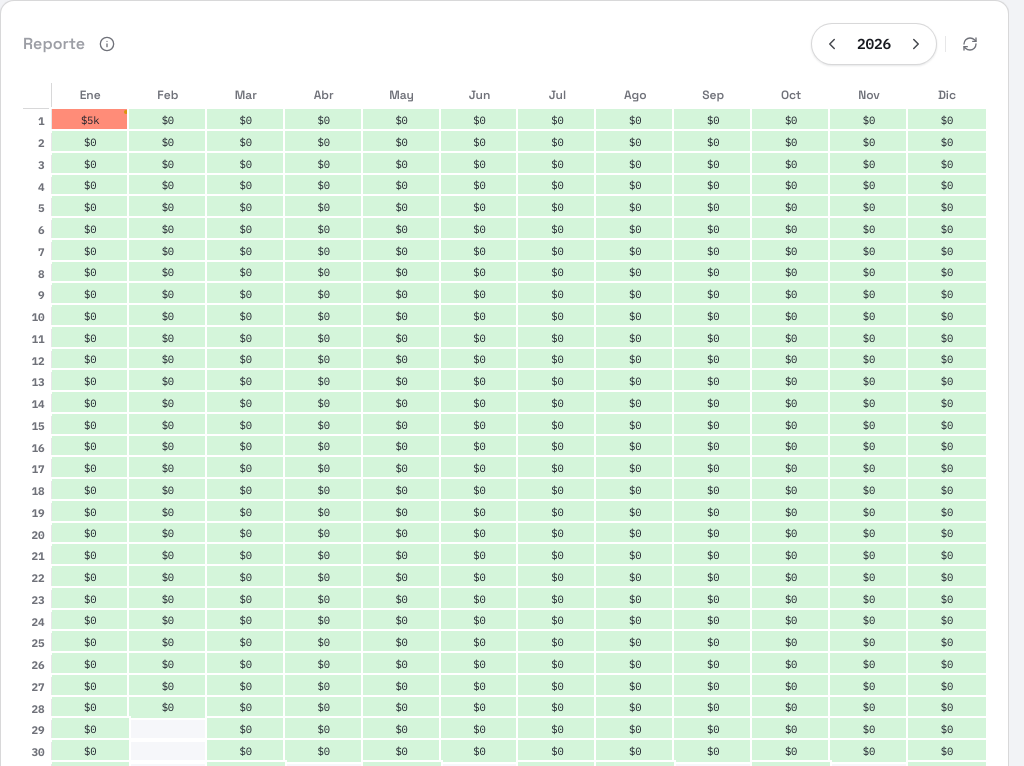
Test case: Marca visual pasiva de límites en unique-grid › hover en la celda de día 1/enero muestra el tooltip con la nota de límite cruzado
The image size is (1024, 766).
Hover over the cell named "día 1, ene 2026" at (90, 120), box [51,109,129,131]
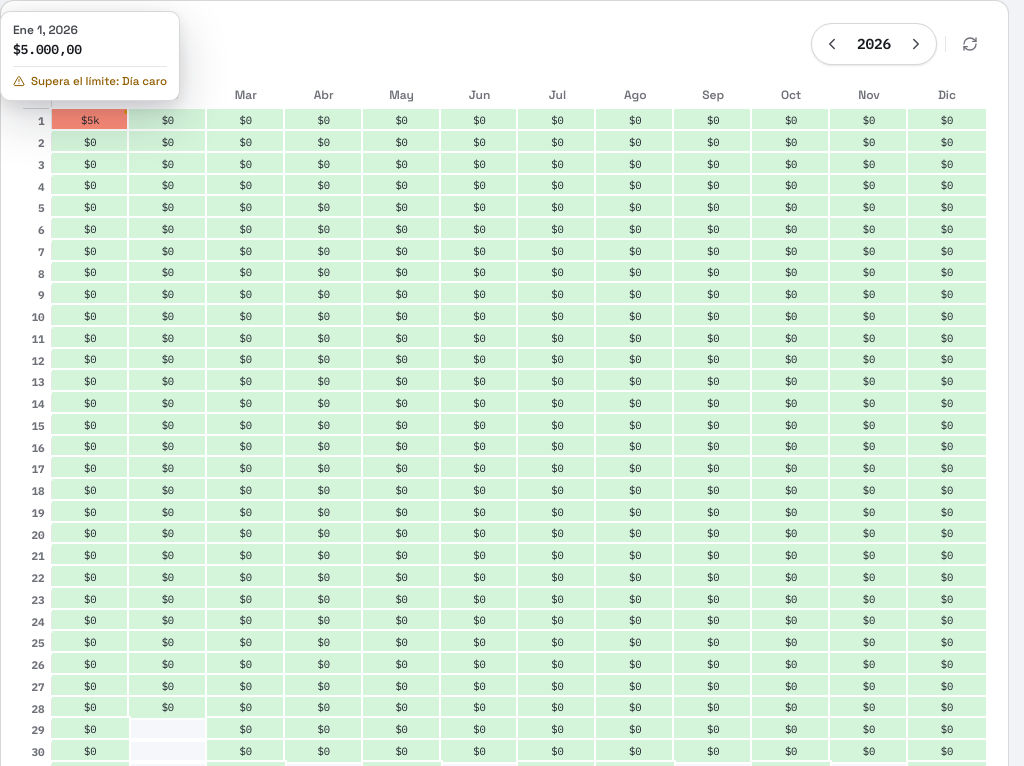
Check: the text "Supera el límite: Día caro" is shown, box [31,73,167,90]
